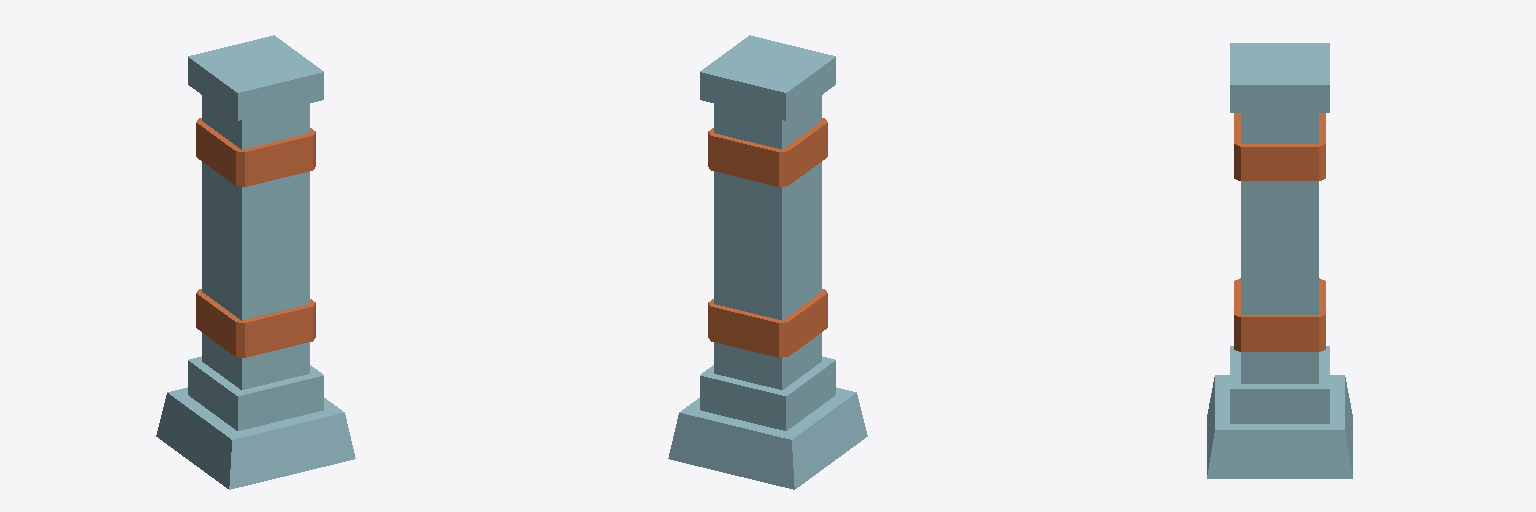
File: columnLarge.obj
3 renders of one model, left to right at view 1: azimuth 30°, elevation 25°; view 2: azimuth 150°, elevation 25°; view 3: azimuth 270°, elevation 25°, orthographic.
Visible parts, largest first — view 1: columnLarge; view 2: columnLarge; view 3: columnLarge.
Part boxes in pixels (x1,y1,x2,y2): columnLarge: (156, 35, 355, 489); columnLarge: (668, 35, 867, 489); columnLarge: (1207, 43, 1352, 478).
Size of the model in its own units: 0.38 by 1.1 by 0.38.